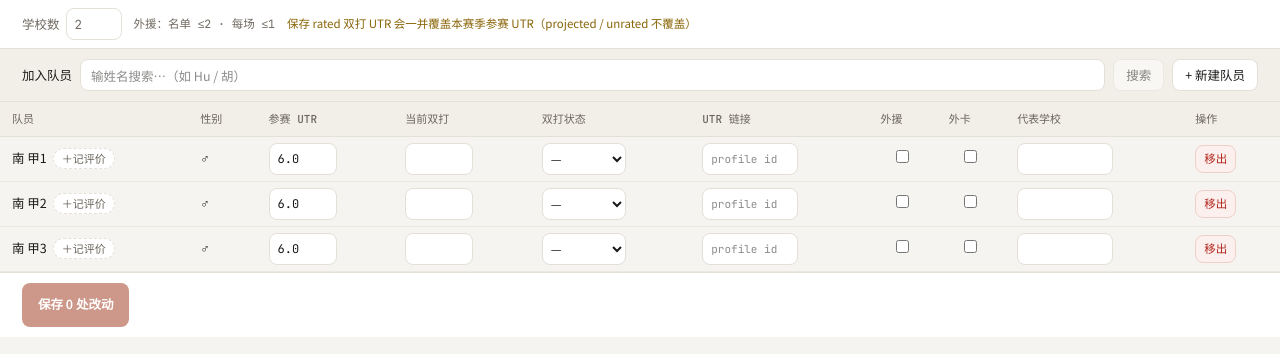
Scenario: TeamEditPanel add / remove errors surface inline › shows the backend detail when a remove is refused (e.g. season locked)
Click the button "移出" in the row of "南 甲1": (1216, 158) [1195,144,1236,172]
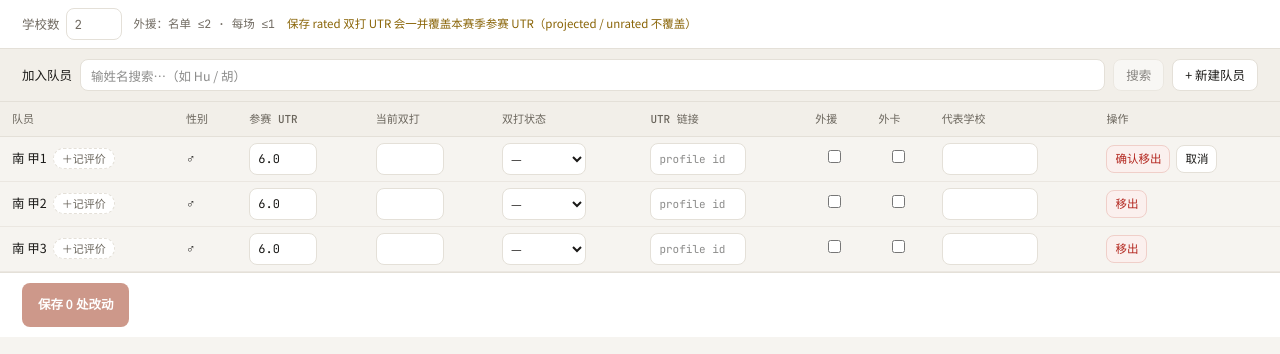
Click the button "确认移出": (1138, 158) [1106,144,1170,172]
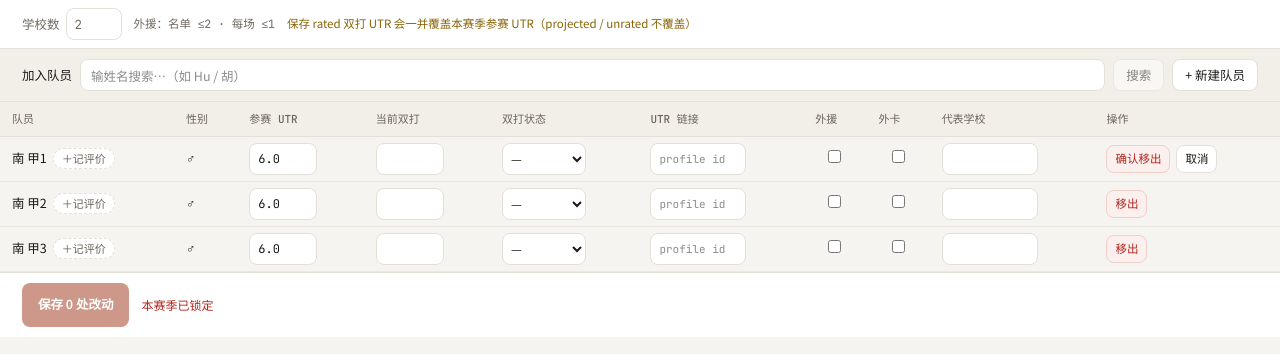
Result: the text "本赛季已锁定" is shown at [141,296,213,314]
